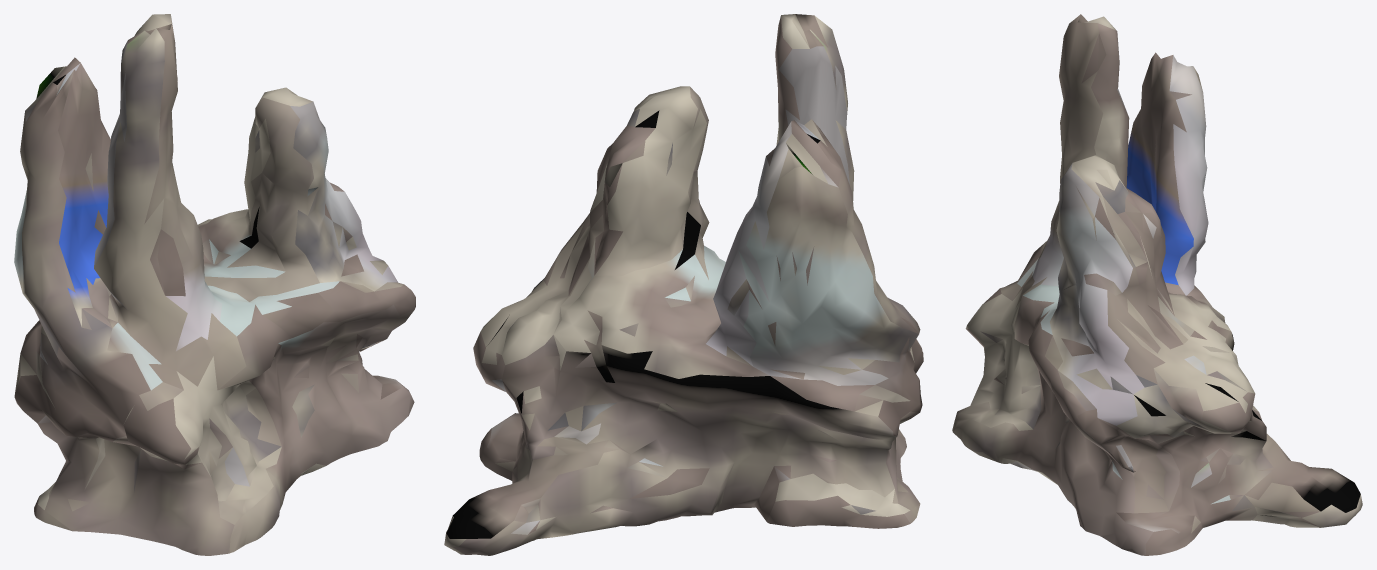
Rendered from Structure-12.fbx.
3 renders of one model, left to right at view 1: azimuth 30°, elevation 25°; view 2: azimuth 150°, elevation 25°; view 3: azimuth 270°, elevation 25°, orthographic. The views are drawn at different scales.
Parts seen in each view (by area): view 1: Structure-12; view 2: Structure-12; view 3: Structure-12.
Boxes of the visible parts, left/top/right/bottom form: Structure-12: left=14, top=14, right=415, bottom=555; Structure-12: left=444, top=14, right=923, bottom=555; Structure-12: left=952, top=14, right=1362, bottom=555.
Bounding box in the file's own units: 2.79 × 3.14 × 2.8.
